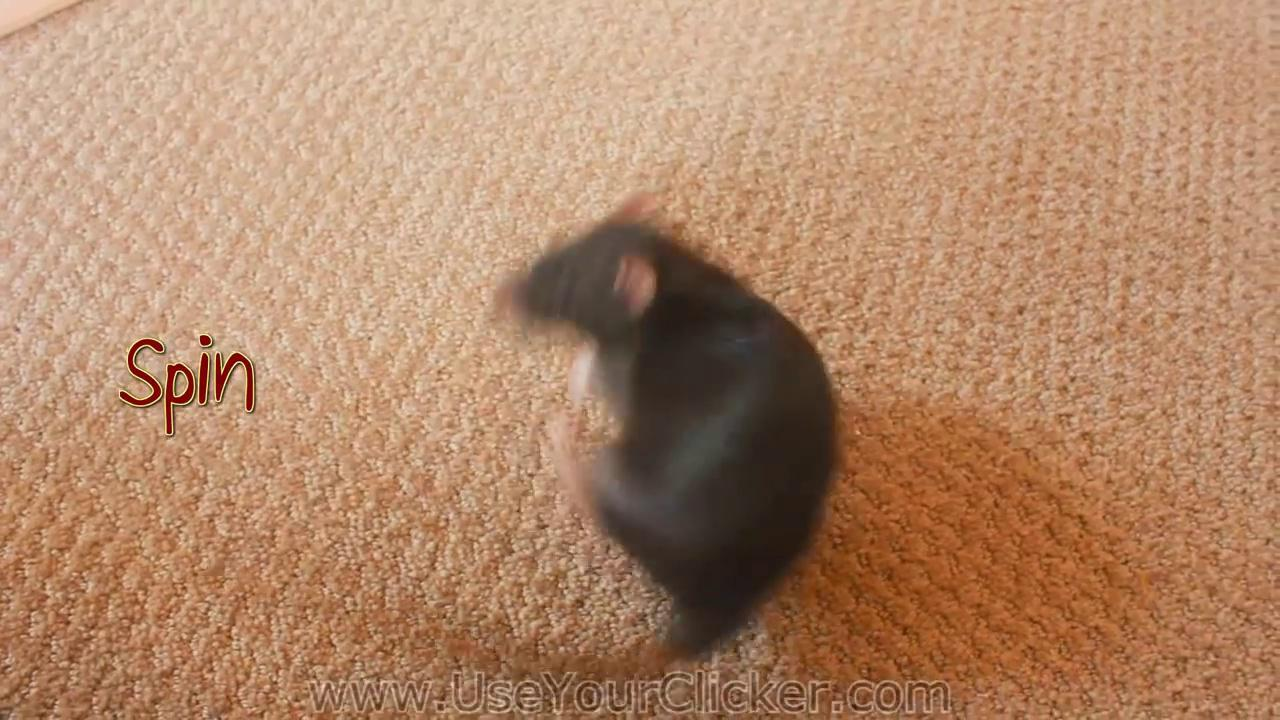rat: (494, 170, 839, 681)
